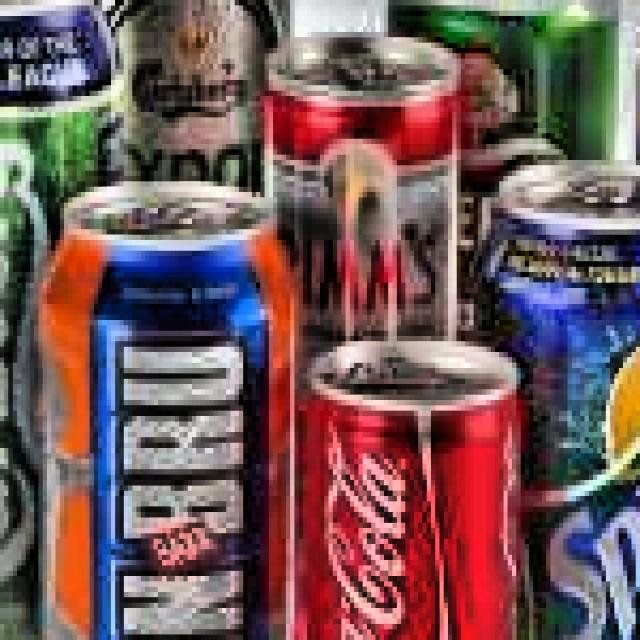metal: (30, 170, 320, 640), (247, 24, 478, 429), (376, 0, 627, 368), (469, 138, 639, 640), (0, 0, 132, 640), (294, 320, 520, 640), (55, 0, 302, 213)
